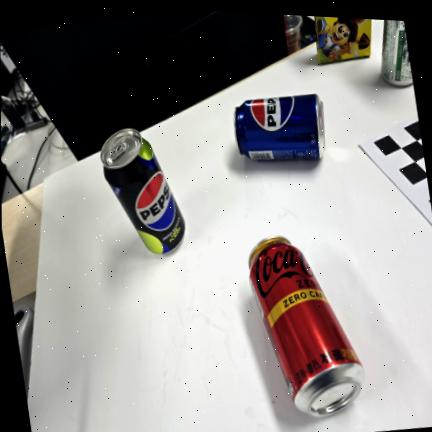can_coke_decaf: (248, 235, 364, 417)
can_pepsi: (234, 93, 325, 159)
can_pepsi_zero: (100, 127, 185, 254)
